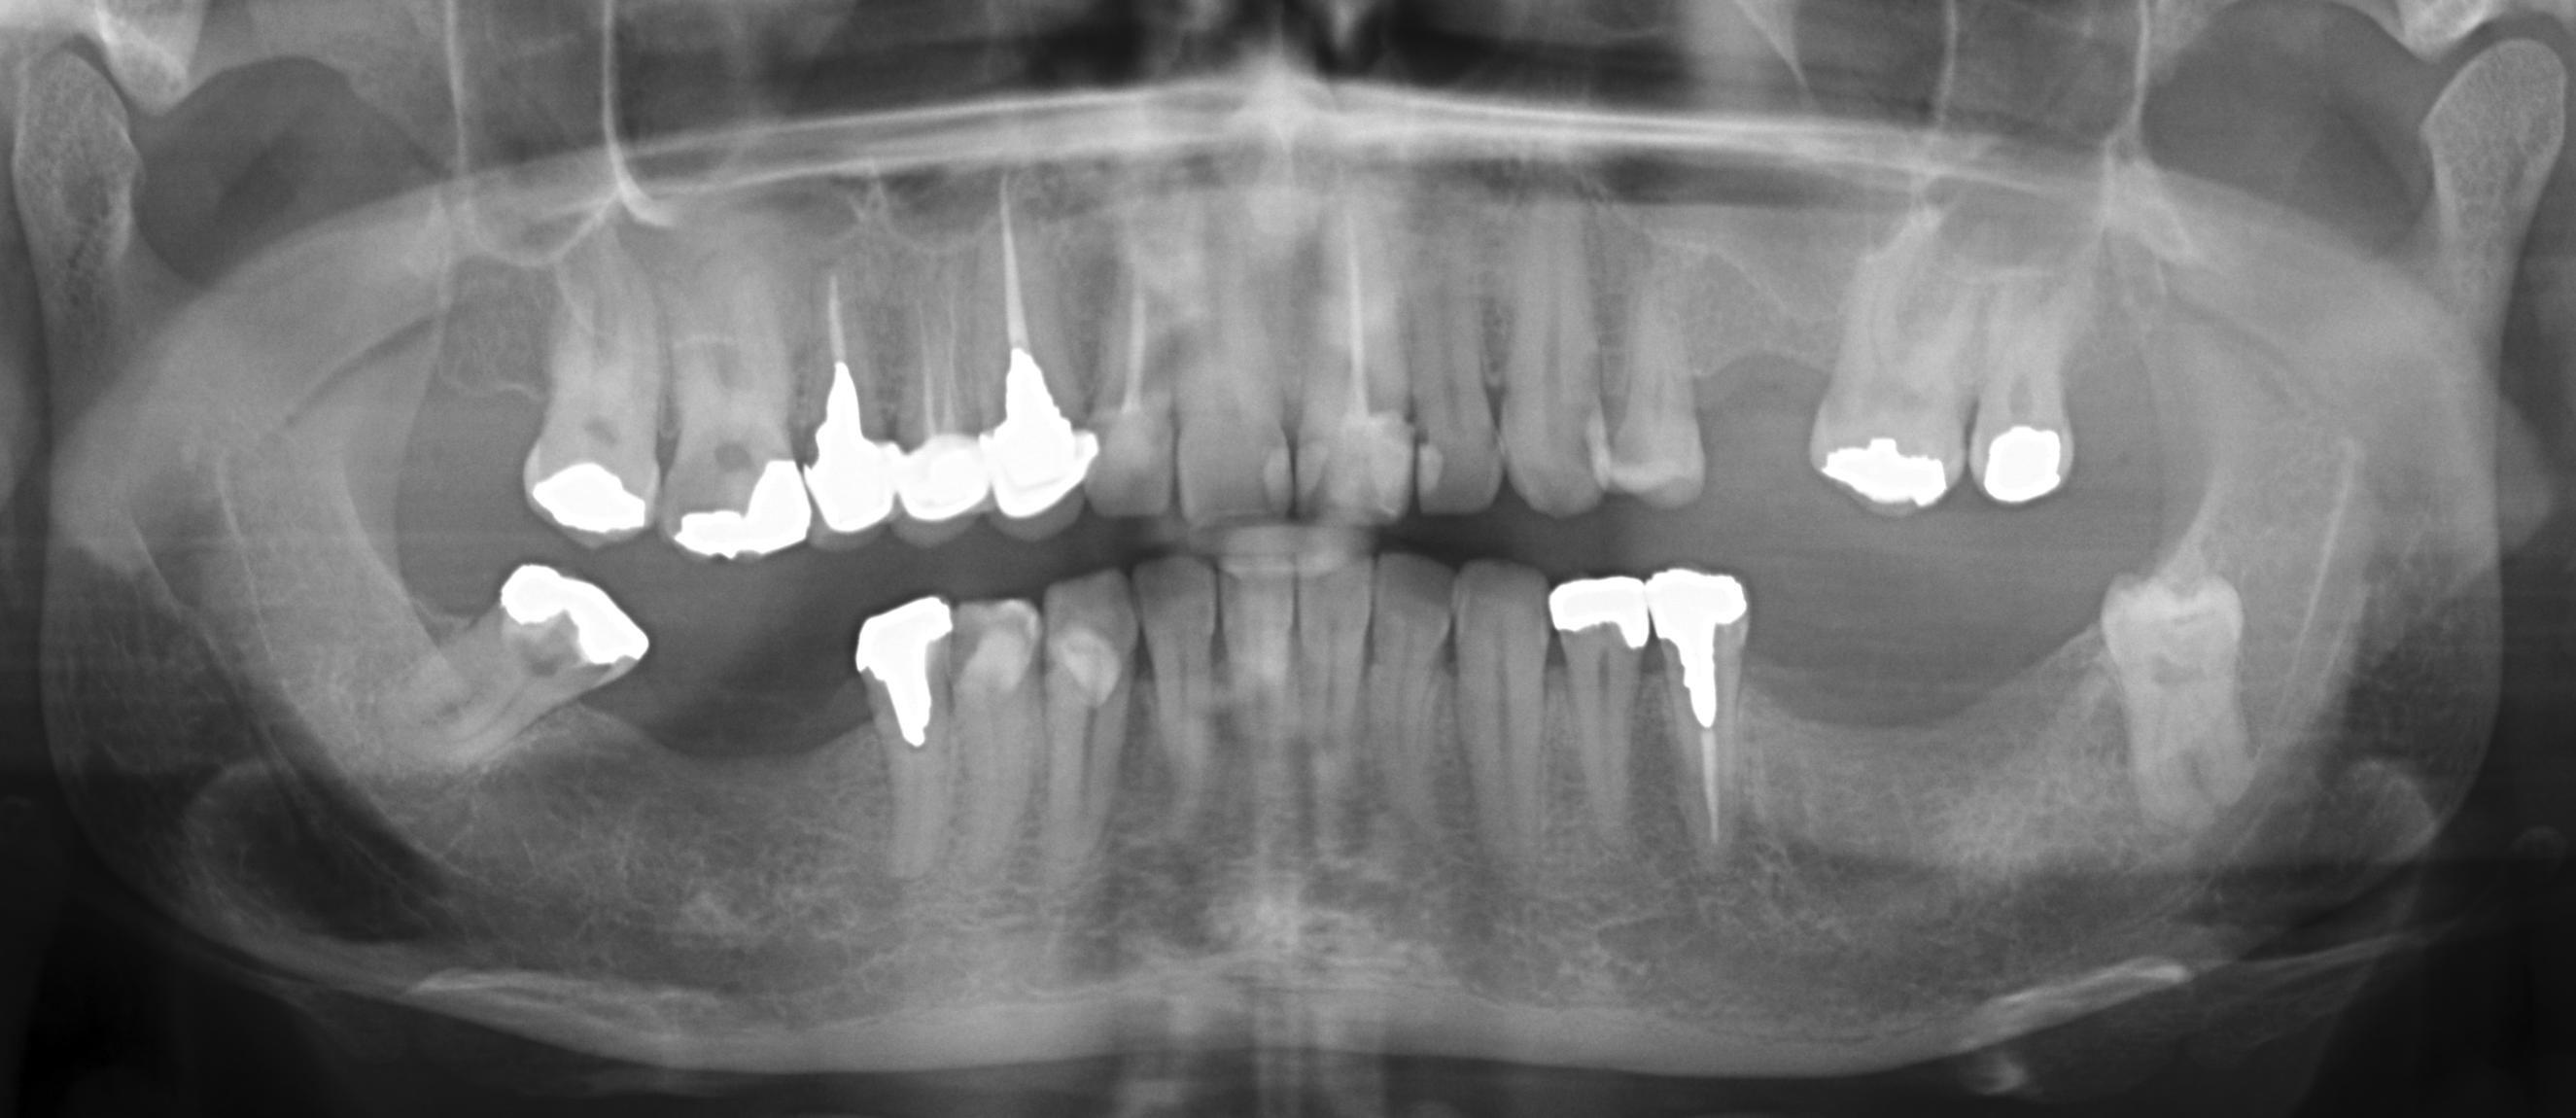Çürük: (506, 559, 651, 677), (848, 595, 955, 741), (665, 462, 812, 569), (1822, 429, 1960, 515), (981, 416, 1099, 511), (522, 454, 651, 539), (813, 426, 902, 539), (1546, 575, 1649, 658), (1653, 571, 1753, 651), (894, 432, 981, 523), (1978, 429, 2077, 508), (1265, 447, 1295, 516), (1295, 439, 1314, 515), (1418, 447, 1441, 501)
Çürük Bölgesi: (785, 418, 830, 470), (1303, 485, 1329, 523), (1410, 423, 1441, 449), (1574, 434, 1594, 474), (1250, 485, 1275, 516)
